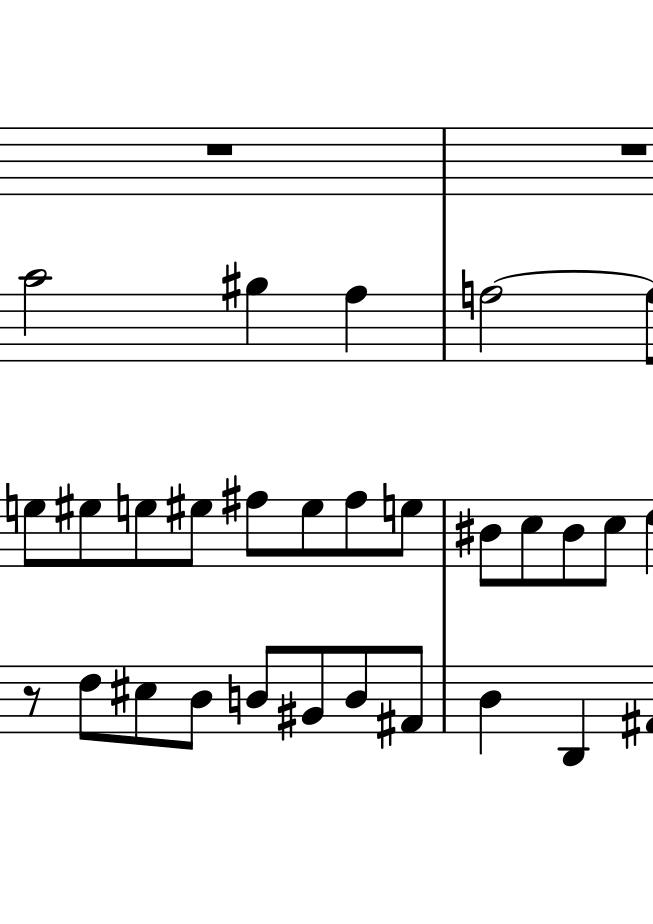2_12: (20, 267, 50, 364)
2_8: (478, 283, 501, 365)
4_-3: (558, 663, 588, 766)
4_4: (479, 666, 503, 755)
4_8: (344, 282, 368, 363)
8_1: (401, 645, 425, 735)
8_2: (300, 645, 326, 734)
8_4: (181, 665, 214, 753), (245, 644, 278, 731), (478, 499, 503, 591), (561, 498, 586, 590), (344, 643, 369, 735)
8_5: (596, 498, 626, 589), (518, 497, 544, 588), (132, 663, 159, 748)
8_6: (78, 663, 101, 744)
8_7: (181, 497, 211, 568), (393, 498, 423, 567), (299, 499, 324, 569), (133, 497, 157, 569), (22, 498, 46, 569), (77, 498, 101, 569)
8_8: (343, 490, 368, 569), (244, 490, 268, 569)
8_9: (244, 275, 269, 361)
Natural: (226, 672, 242, 728), (114, 485, 131, 537), (460, 268, 475, 324), (381, 483, 396, 536), (5, 485, 19, 536)
Rests1: (204, 141, 234, 157), (617, 141, 648, 156)
Rests8: (22, 683, 43, 717)
Sharp: (53, 482, 75, 536), (164, 482, 186, 536), (109, 665, 131, 718), (619, 698, 641, 751), (454, 506, 475, 560), (276, 691, 297, 744), (220, 260, 241, 312), (375, 698, 396, 750), (221, 474, 241, 527)
Single_barline: (436, 500, 452, 567), (436, 294, 452, 360), (435, 666, 451, 731), (436, 129, 452, 193)
Slur: (491, 268, 653, 285)
